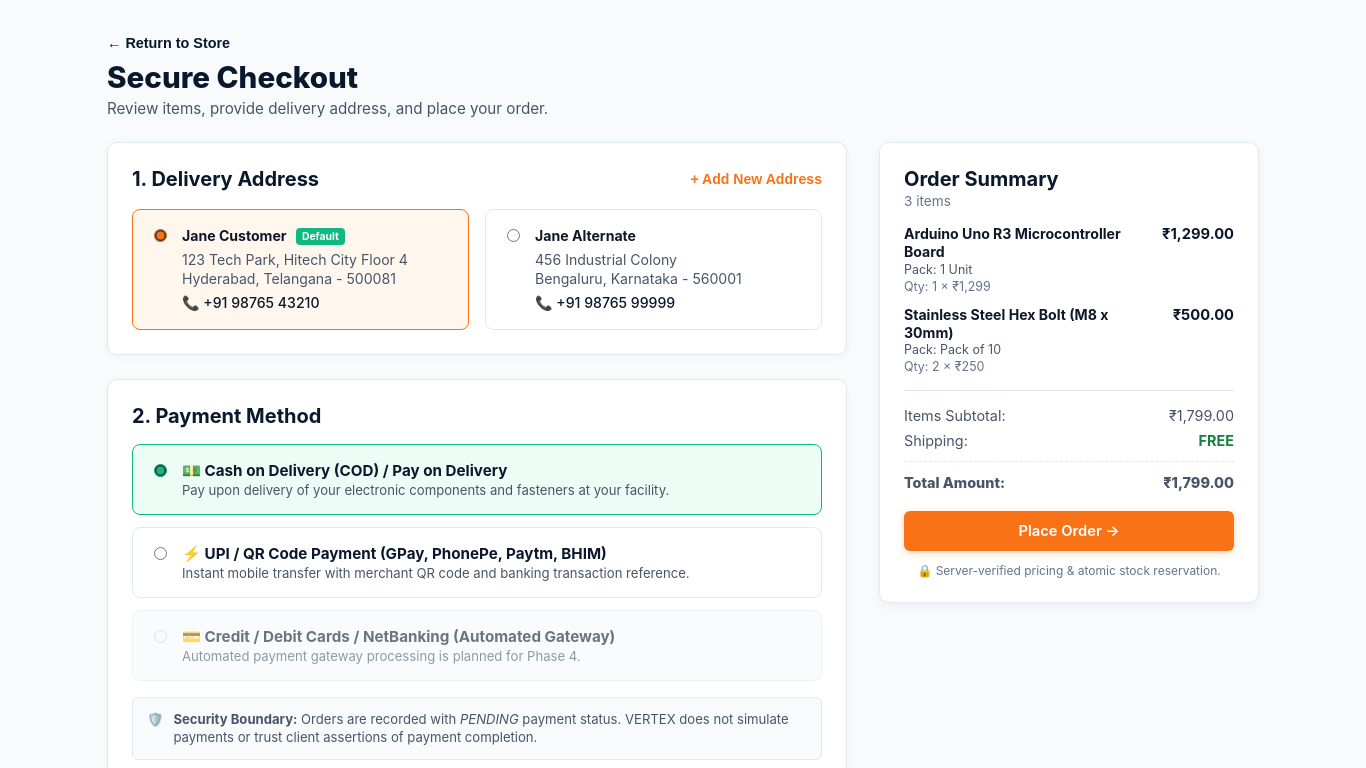
Test: CheckoutPage Component Suite › 6. Displays error banner when order placement fails with server error
The image size is (1366, 768).
Check: the label with test id "address-card-addr-1" is shown, box top-left (132, 209), bottom-right (469, 330)
What coordinates should you click on to do the following:
click the button with test id "place-order-btn"
I would click on:
 (1069, 531)
Its box is top-left (904, 511), bottom-right (1234, 551).
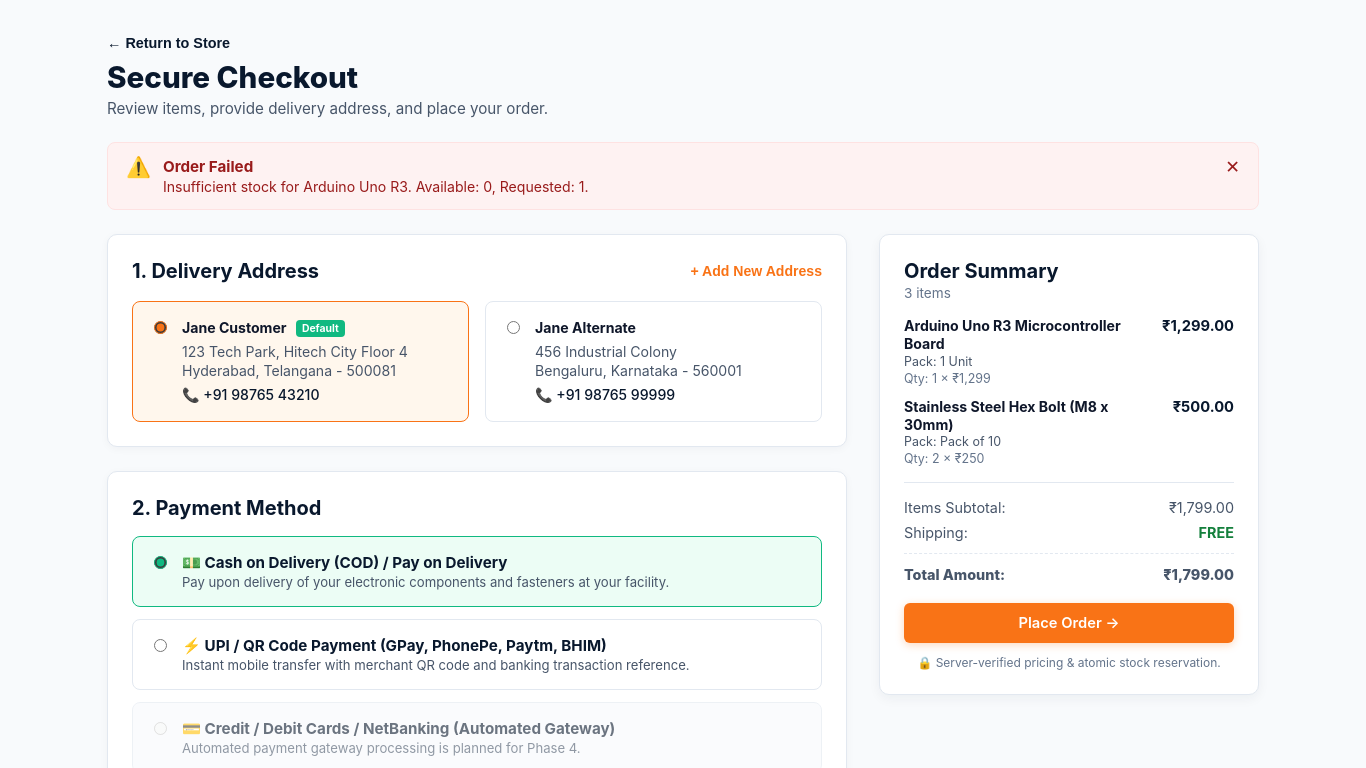
Check: the message with test id "checkout-error-banner" is shown, box top-left (107, 142), bottom-right (1259, 210)
Check: the text "Insufficient stock for Arduino Uno R3" is shown, box top-left (163, 178), bottom-right (588, 195)
# Dismiss error banner
What coordinates should you click on to do the following:
click the button named "Dismiss error"
I would click on:
 (1233, 168)
Its box is top-left (1225, 157), bottom-right (1240, 178).
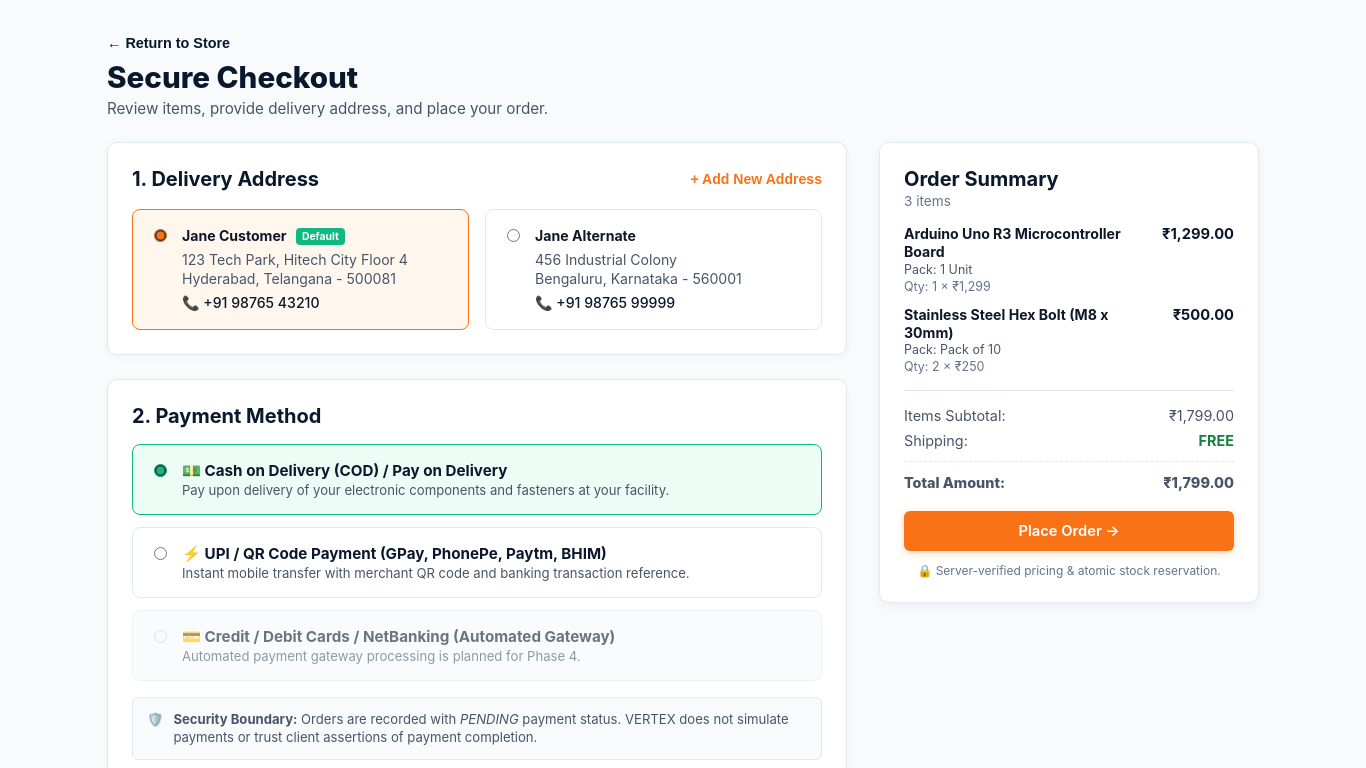
Check: the message with test id "checkout-error-banner" is gone
